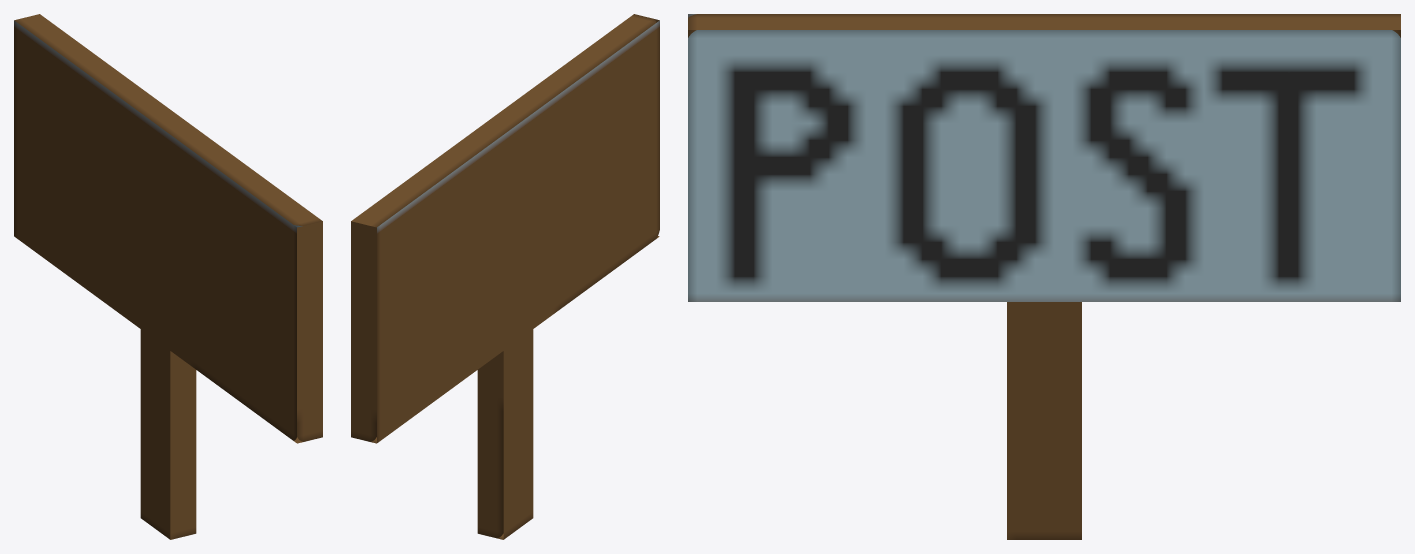
The model's file is sign.obj.
3 renders of one model, left to right at view 1: azimuth 30°, elevation 25°; view 2: azimuth 150°, elevation 25°; view 3: azimuth 270°, elevation 25°, orthographic. The views are drawn at different scales.
Visible parts, largest first — view 1: mesh; view 2: mesh; view 3: mesh.
Boxes of the visible parts, x1,y1,x2,y2 form: mesh: (14, 14, 322, 539); mesh: (351, 14, 659, 539); mesh: (688, 14, 1400, 539).
Bounding box in the file's own units: 0.125 × 1.88 × 2.38.
1 material, 1 textured.
